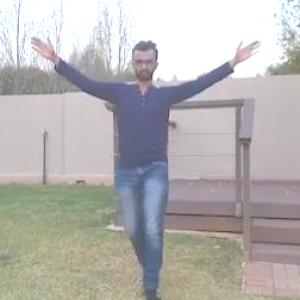takeoff: (42, 38, 263, 282)
